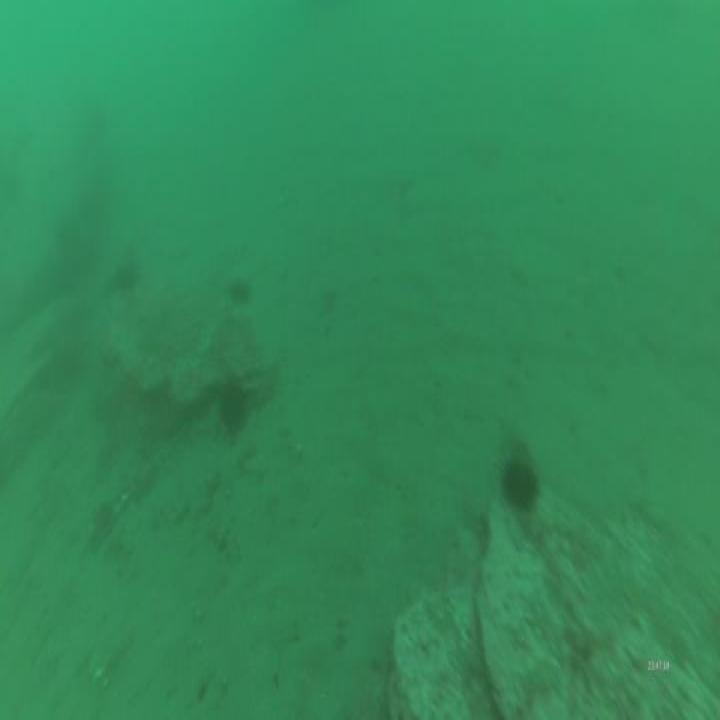echinus: (500, 448, 541, 521), (216, 378, 249, 442), (224, 272, 258, 313), (110, 260, 143, 294)
